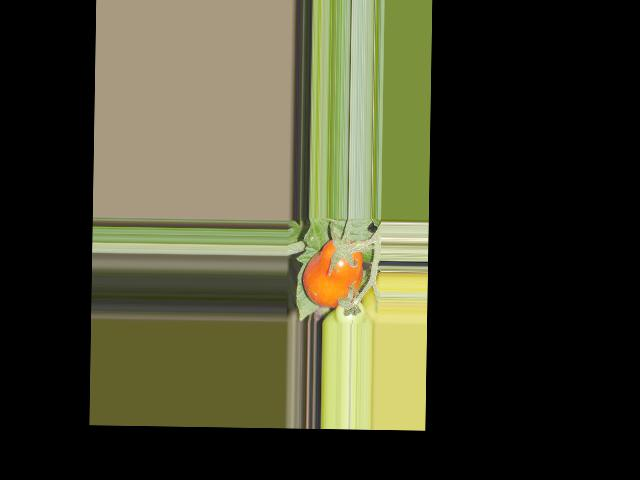tomato: (302, 238, 363, 307)
